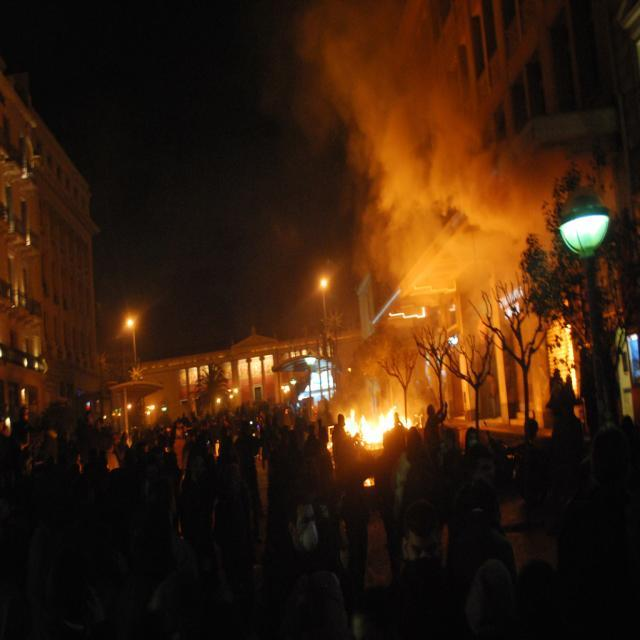Fire: (350, 398, 408, 451)
